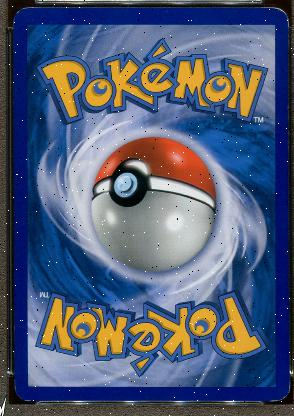Card: (10, 4, 290, 402)
Corner Wear: (259, 6, 288, 26), (12, 6, 33, 28), (266, 382, 289, 402), (13, 379, 30, 401)
Edge Wear: (285, 102, 287, 162), (13, 323, 15, 333), (13, 348, 15, 358)
